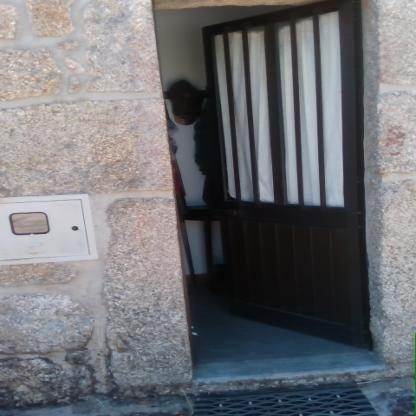semi: (148, 2, 378, 385)
